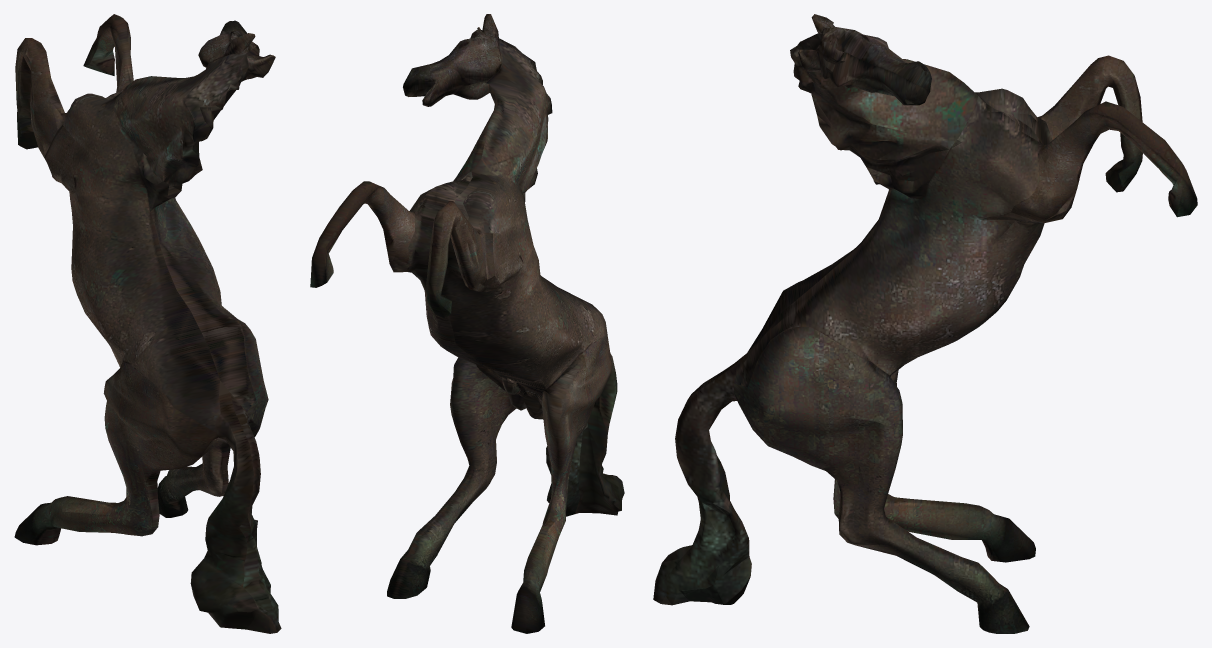
File: statue_horse.fbx
3 renders of one model, left to right at view 1: azimuth 30°, elevation 25°; view 2: azimuth 150°, elevation 25°; view 3: azimuth 270°, elevation 25°, orthographic. The views are drawn at different scales.
Visible parts, largest first — view 1: studiomesh_12; view 2: studiomesh_12; view 3: studiomesh_12.
Boxes of the visible parts, x1,y1,x2,y2 form: studiomesh_12: [14, 14, 281, 633]; studiomesh_12: [310, 14, 624, 633]; studiomesh_12: [653, 14, 1197, 633].
Size of the model in its own units: 75.99 by 211 by 171.
